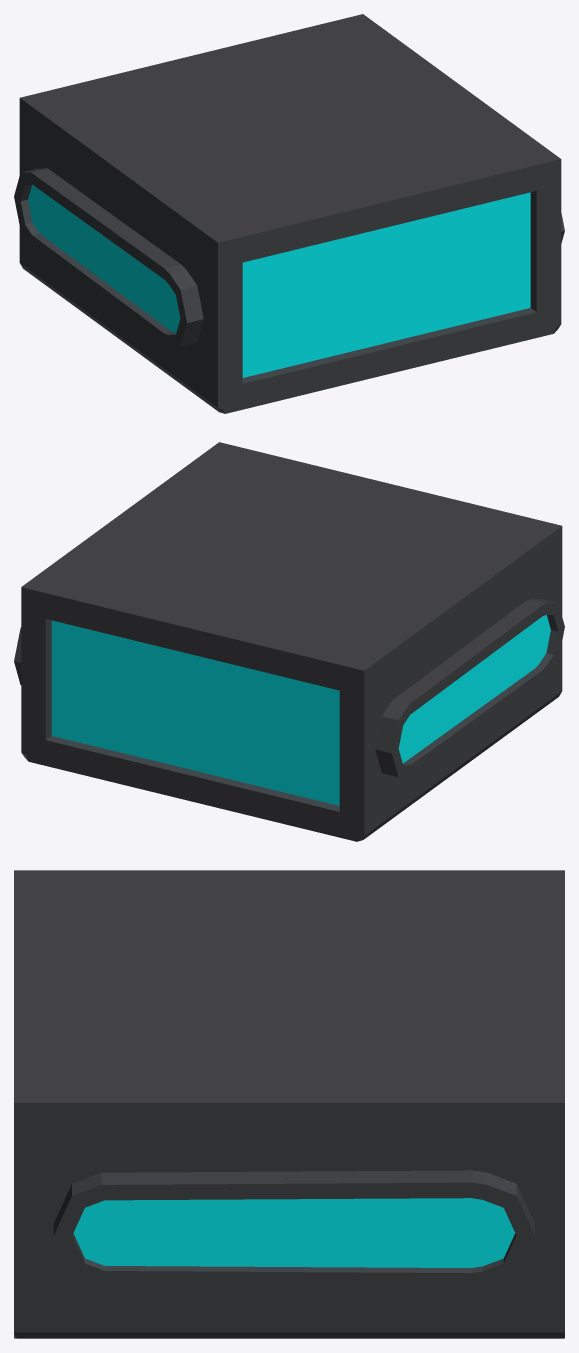
Rendered from LightCube_02.glb.
3 views of the same model, one above another, from view 1: azimuth 30°, elevation 25°; view 2: azimuth 150°, elevation 25°; view 3: azimuth 270°, elevation 25° (orthographic). The views are drawn at different scales.
Visible parts, largest first — view 1: LightCube_02; view 2: LightCube_02; view 3: LightCube_02.
Boxes of the visible parts, box(x1,y1,x2,y2) form: LightCube_02: box(14, 14, 564, 413); LightCube_02: box(14, 442, 564, 841); LightCube_02: box(14, 870, 564, 1338).
Size of what is drawn, in the model's own units: 2.2 by 0.9627 by 2.
1 material, 1 textured.
